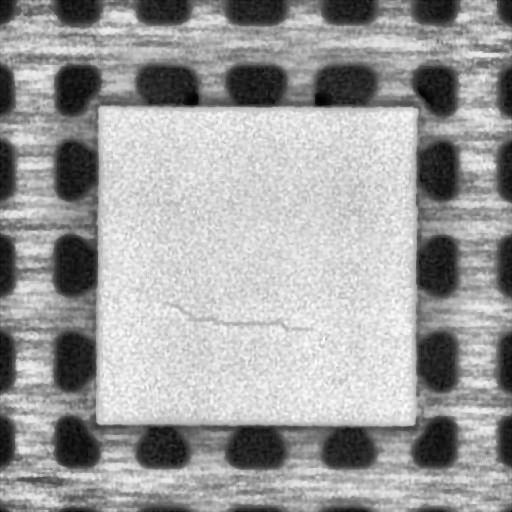DIE_CRACK: (164, 298, 314, 334)
